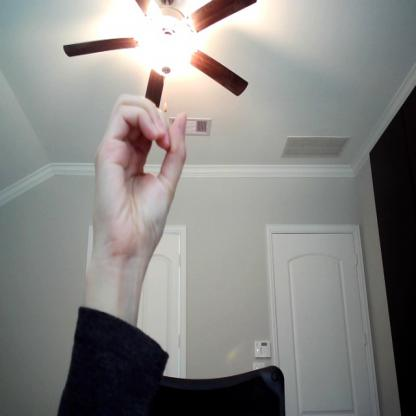zero: (90, 95, 186, 252)
